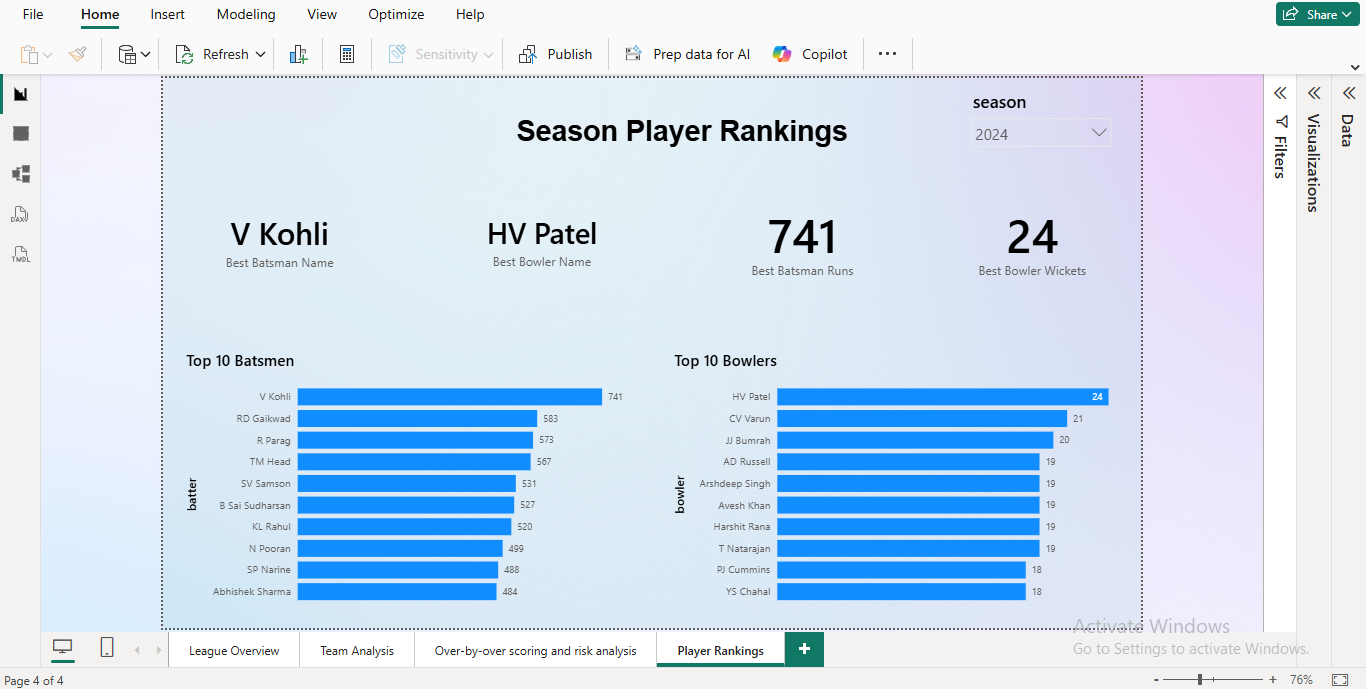

Layout of this report page (visuals, bound fields, positions):
{"tool":"powerbi","page":{"name":"Player Rankings","canvas":[1280,720],"ordinal":3},"visuals":[{"type":"slicer","fields":{"Values":["matches.season"]},"box":[1052.6,15.8,194.4,85],"z":0},{"type":"card","fields":{"Values":["Players.Best Bowler Name"]},"box":[316.8,100.8,358.6,224.6],"z":1000},{"type":"card","fields":{"Values":["Players.Best Batsman Name"]},"box":[0,100.8,305.3,224.6],"z":2000},{"type":"card","fields":{"Values":["Players.Best Batsman Runs"]},"box":[699.8,100.8,273.6,224.6],"z":3000},{"type":"card","fields":{"Values":["Players.Best Bowler Wickets"]},"box":[996.5,100.8,283.7,224.6],"z":4000},{"type":"clusteredBarChart","title":"Top 10 Batsmen","fields":{"Y":["Players.Best Batsman Runs"],"Category":["deliveries.batter"]},"box":[18.7,342.7,596.2,364.3],"z":5000},{"type":"clusteredBarChart","title":"Top 10 Bowlers","fields":{"Category":["deliveries.bowler"],"Y":["Players.Best Bowler Wickets"]},"box":[656.6,342.7,613.4,364.3],"z":6000},{"type":"textbox","box":[28.8,31.7,872.6,89.3],"z":7000}]}

Visuals, with their boxes on the page's 1280x720 design canvas (x1, y1, x2, y2). These are canvas units, not pixel positions in the 1366x689 screenshot, which may show the page scaled, cropped or inside an application window:
slicer - matches.season: [left=1053, top=16, right=1247, bottom=101]
card - Players.Best Bowler Name: [left=317, top=101, right=675, bottom=325]
card - Players.Best Batsman Name: [left=0, top=101, right=305, bottom=325]
card - Players.Best Batsman Runs: [left=700, top=101, right=973, bottom=325]
card - Players.Best Bowler Wickets: [left=996, top=101, right=1280, bottom=325]
"Top 10 Batsmen" clusteredBarChart: [left=19, top=343, right=615, bottom=707]
"Top 10 Bowlers" clusteredBarChart: [left=657, top=343, right=1270, bottom=707]
textbox: [left=29, top=32, right=901, bottom=121]
